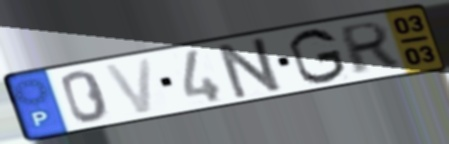0: (60, 68, 110, 126)
4: (181, 46, 225, 104)
G: (286, 27, 349, 87)
N: (215, 34, 288, 102)
R: (338, 18, 401, 77)
V: (101, 55, 156, 116)
